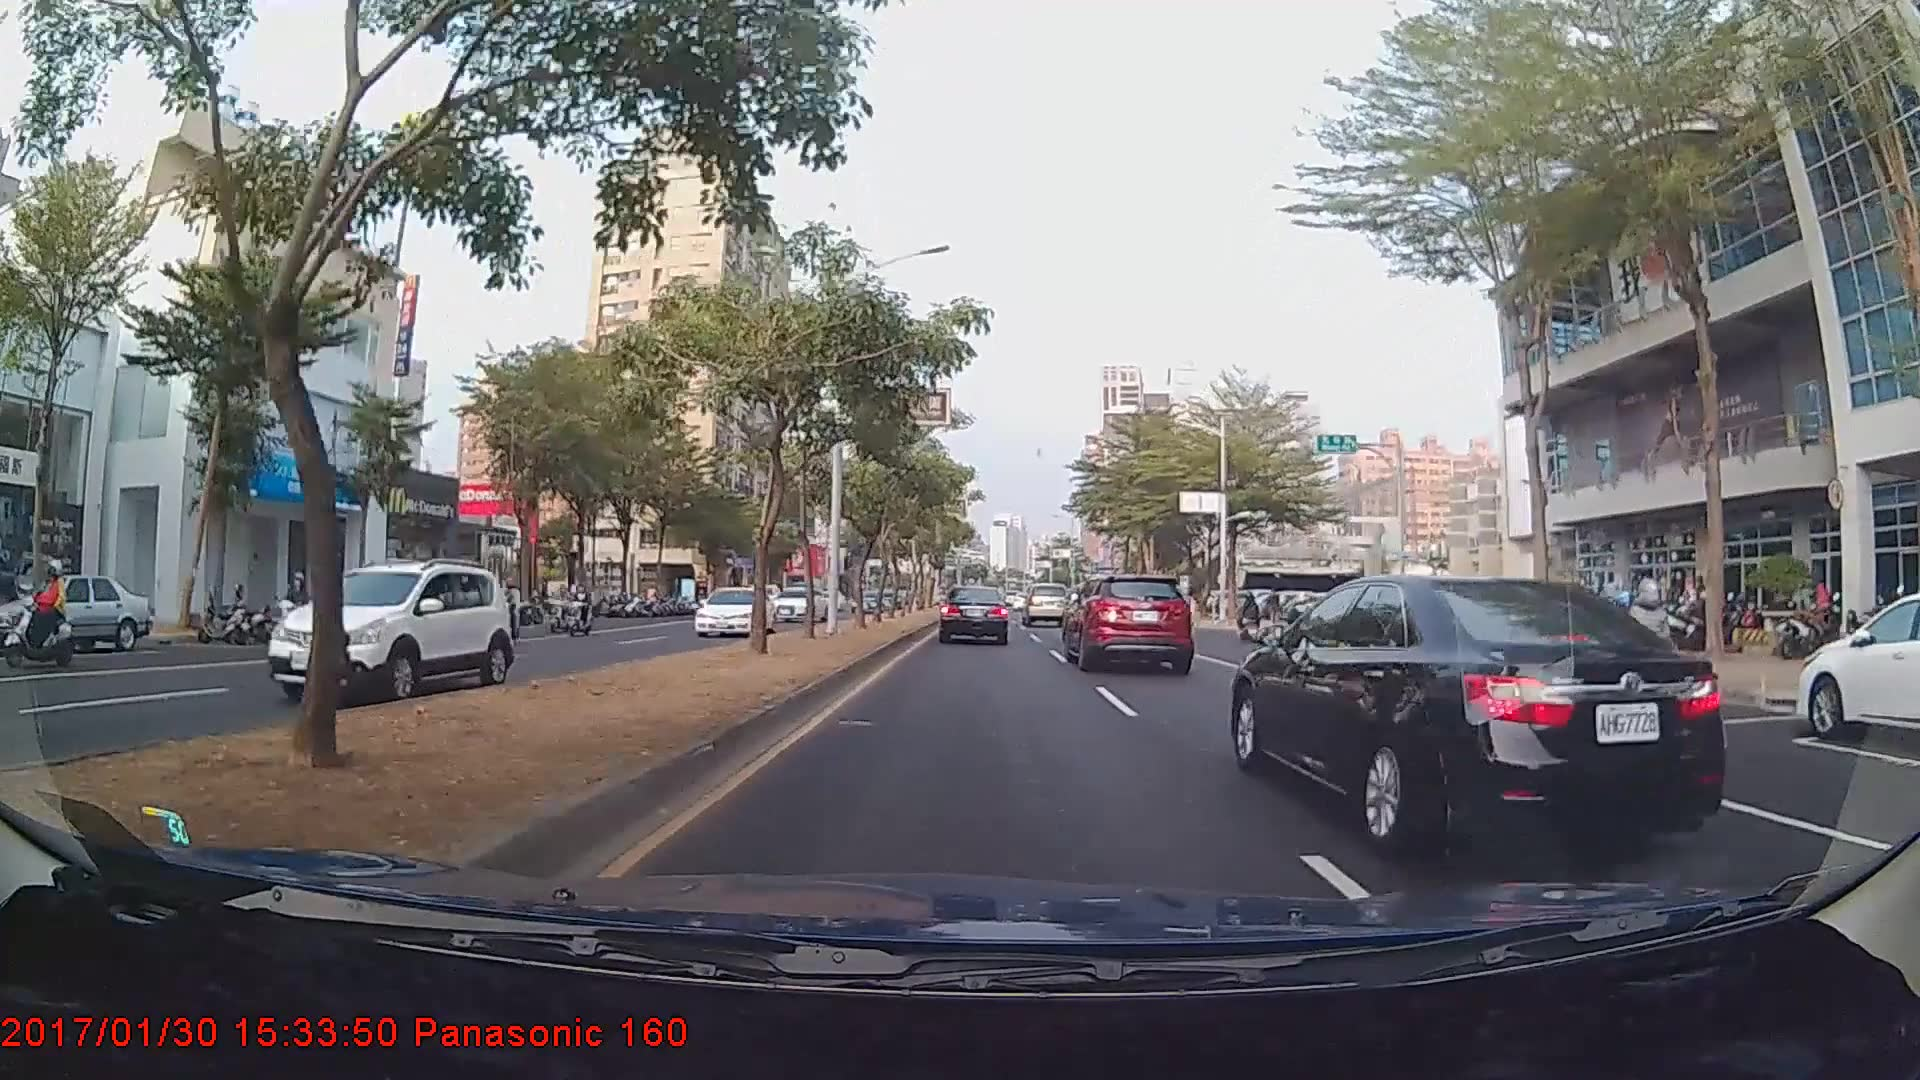rider: (1, 561, 85, 670)
vehicle: (1232, 561, 1707, 857), (264, 555, 520, 703), (1793, 586, 1920, 762), (1063, 574, 1194, 671), (0, 573, 150, 651), (938, 584, 1009, 645), (692, 584, 775, 636), (763, 584, 829, 623), (1019, 582, 1068, 627)
